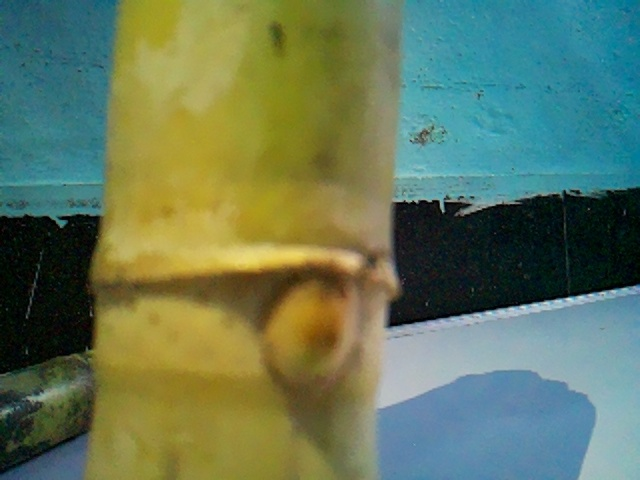Good Sugarcane: (84, 3, 407, 480)
Node: (84, 201, 402, 386)
